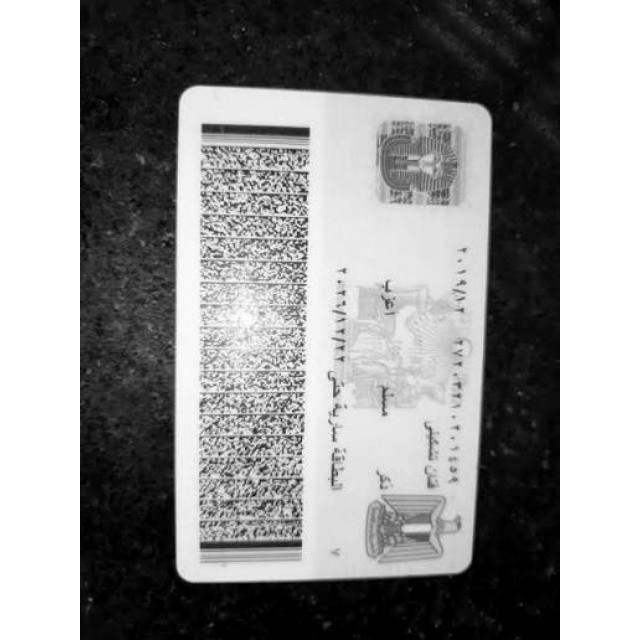id_card: (174, 88, 491, 582)
